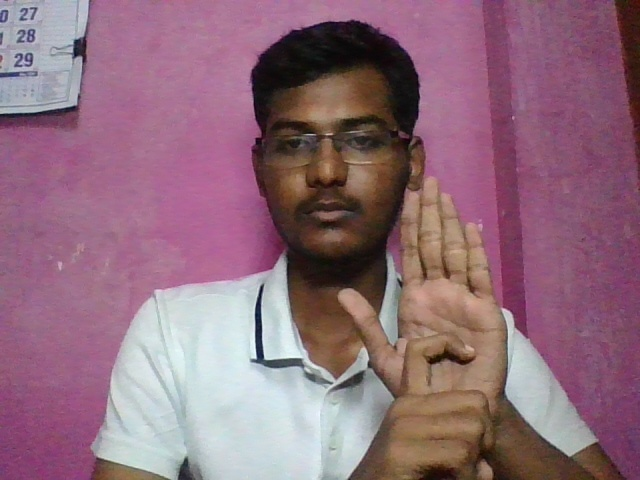Hello: (328, 165, 521, 480)
